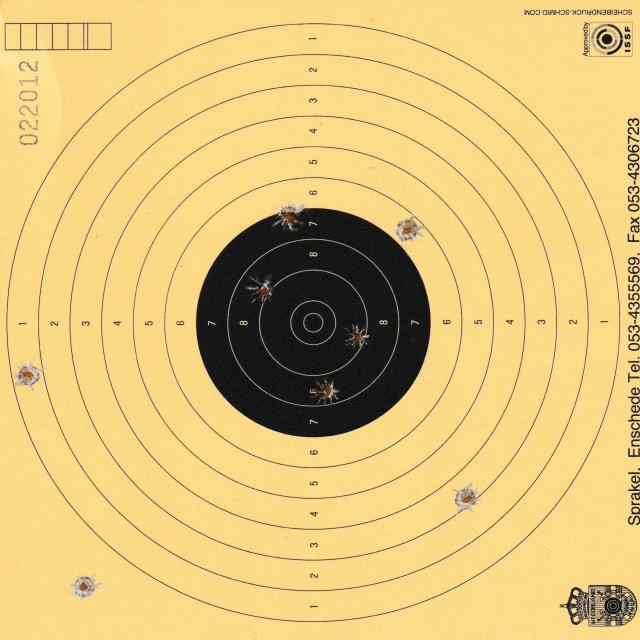1: (14, 364, 40, 389)
10: (246, 274, 274, 304), (344, 326, 366, 349)
4: (452, 483, 480, 512)
7: (394, 214, 428, 242)
8: (275, 206, 303, 230)
9: (308, 379, 346, 406)
Black Contour: (196, 208, 432, 438)
Target: (4, 21, 622, 624)
hole: (70, 570, 102, 602)
